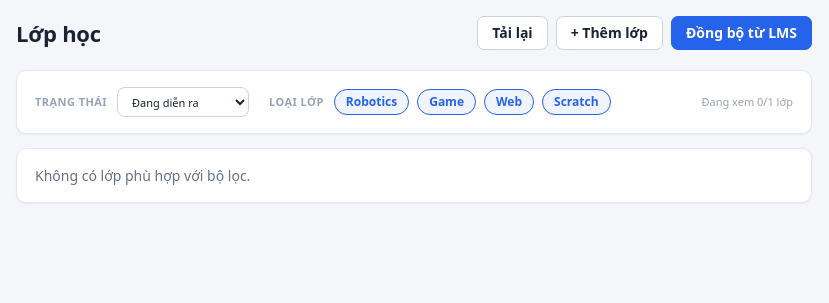
Test: ClassesPage › liệt kê lớp đã có (mã + tên + số HS)
Select "Tất cả" in the dropdown named "Lọc theo trạng thái" at point(183, 102), box [117,87,249,117]
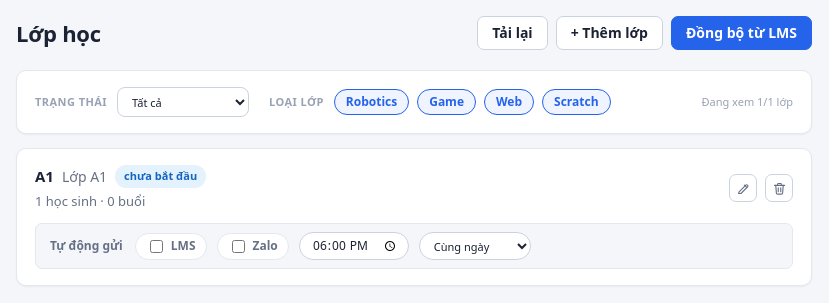
Result: the text "A1" is shown at [35,165,54,188]
Result: the text "Lớp A1" is shown at [62,166,107,187]
Result: the text "1 học sinh · 0 buổi" is shown at [35,192,145,211]
